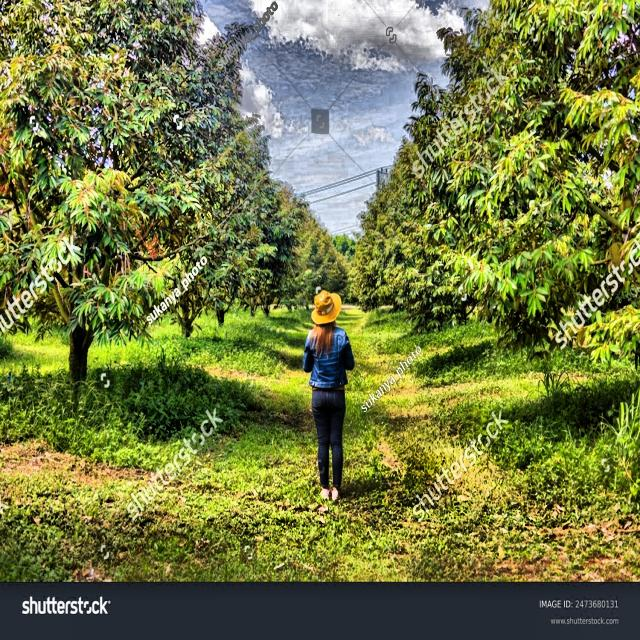arvore: (52, 225, 94, 393), (170, 266, 197, 350), (210, 272, 229, 332)
